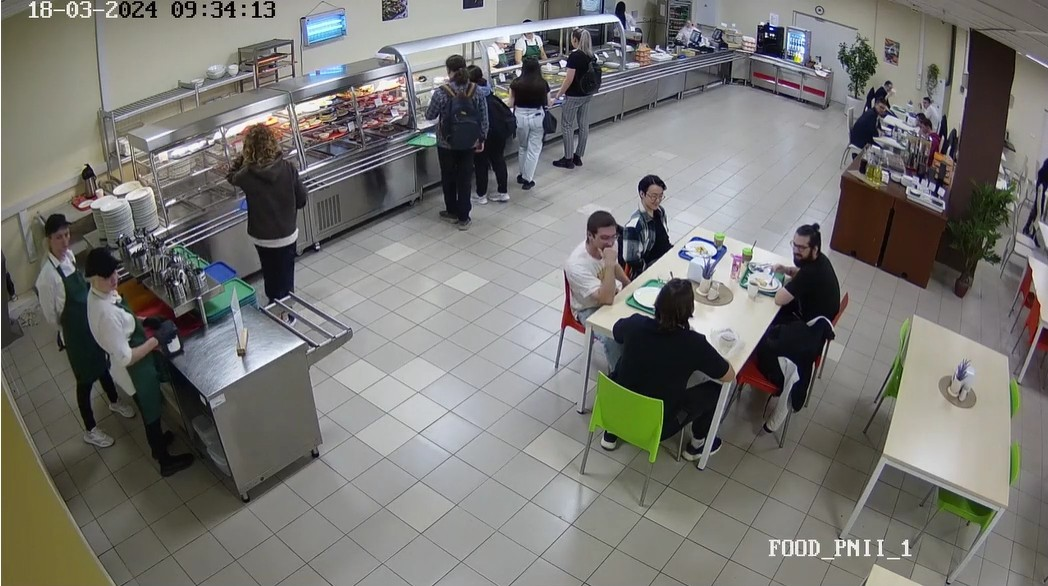Ne_v_Ocheredi: (1022, 153, 1048, 237)
Personal: (71, 245, 194, 480), (32, 213, 116, 438), (513, 16, 547, 56), (481, 27, 513, 67), (605, 2, 640, 38), (672, 16, 699, 46)
Vybiraet: (236, 110, 301, 309), (422, 54, 482, 223), (468, 69, 519, 207), (559, 26, 596, 170), (514, 51, 550, 190)
Za_Stolom: (577, 277, 721, 478), (554, 204, 639, 366), (762, 218, 851, 332), (626, 171, 683, 265), (849, 94, 889, 163), (907, 117, 945, 160), (864, 76, 903, 102), (917, 90, 944, 123)
